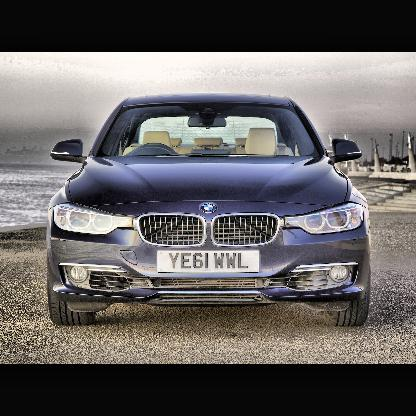BMW 3 Series Sedan 2012: (46, 93, 372, 330)
